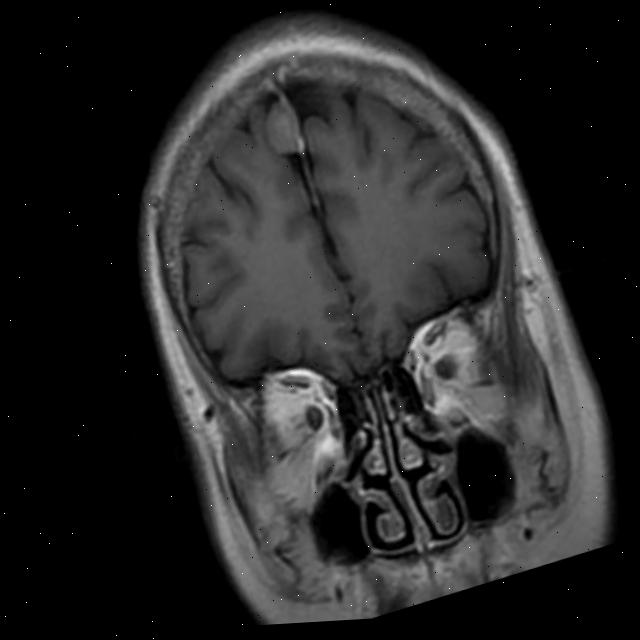Meningioma: (251, 79, 307, 162)
